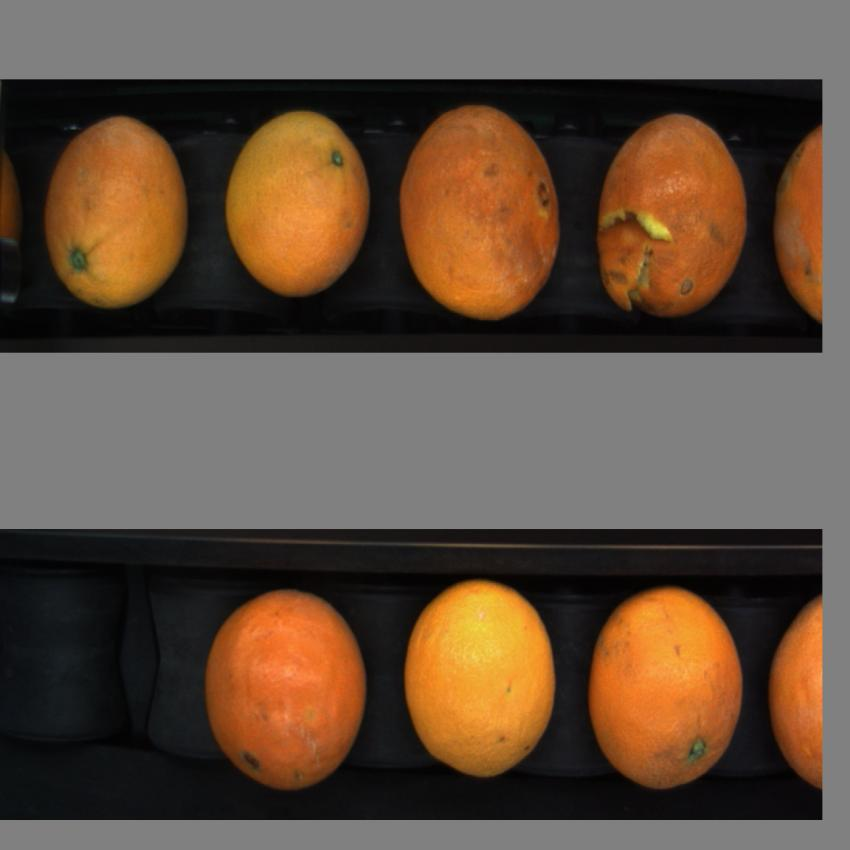Buen estado: (394, 105, 570, 321), (586, 585, 746, 791), (398, 580, 561, 782), (40, 107, 196, 312), (222, 106, 381, 304), (761, 587, 825, 786)
Mal estado: (199, 585, 382, 792), (591, 105, 760, 326), (767, 116, 823, 329)
